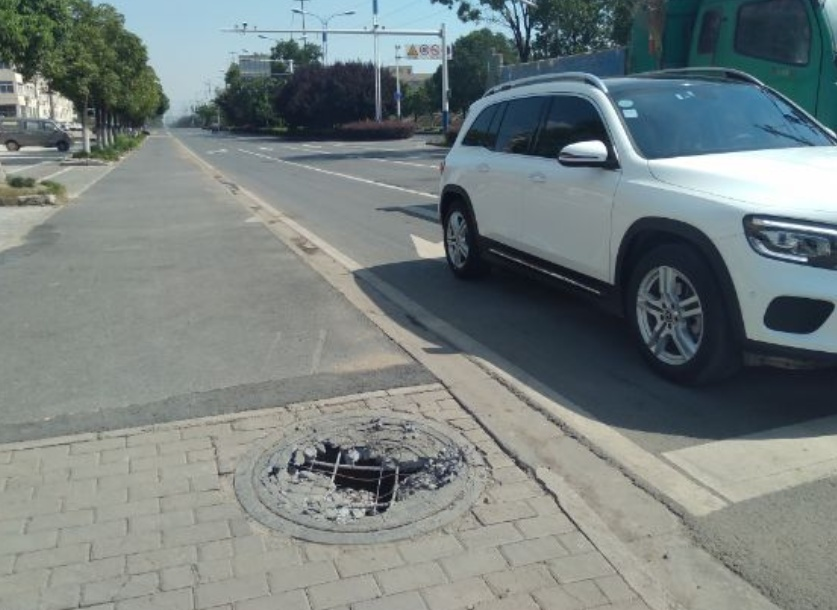broke: (234, 409, 490, 545)
